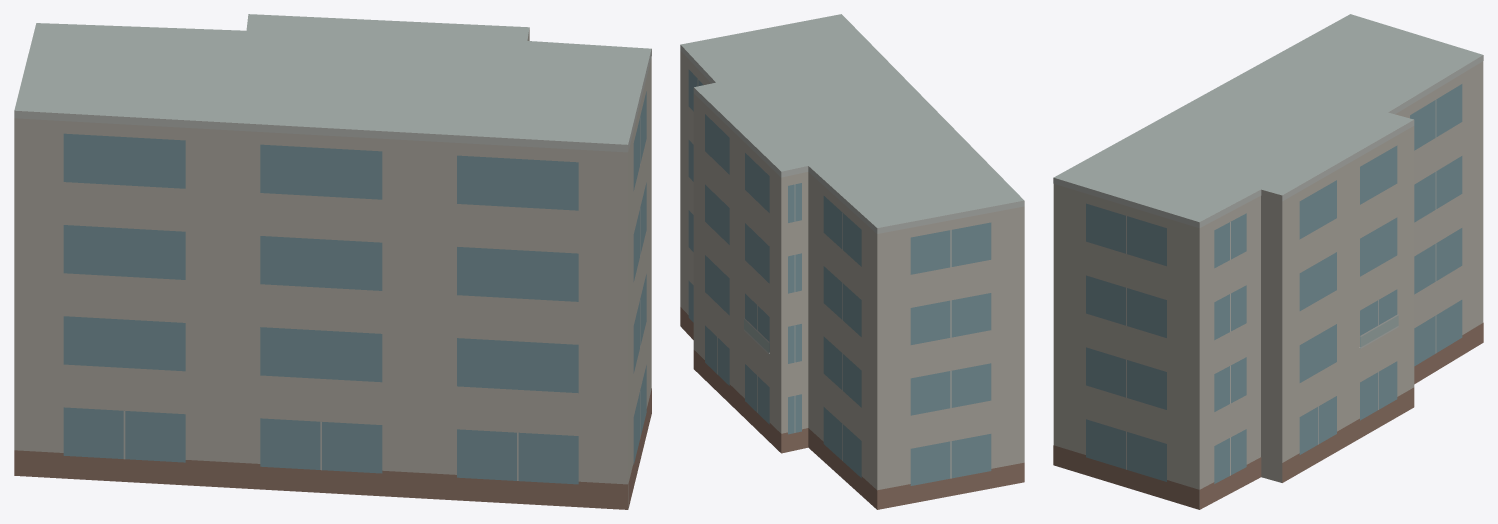
Rendered from survey-upis-32628387.glb.
The picture shows the model from 3 angles, left to right: view 1: azimuth 30°, elevation 25°; view 2: azimuth 150°, elevation 25°; view 3: azimuth 270°, elevation 25°; orthographic projection. The views are drawn at different scales.
Visible parts, largest first — view 1: survey-upis-32628387.tmp; view 2: survey-upis-32628387.tmp; view 3: survey-upis-32628387.tmp.
Boxes of the visible parts, x1,y1,x2,y2 form: survey-upis-32628387.tmp: [14, 14, 651, 509]; survey-upis-32628387.tmp: [680, 14, 1024, 509]; survey-upis-32628387.tmp: [1053, 14, 1483, 509].
Bounding box in the file's own units: 18.17 × 11.7 × 15.86.
